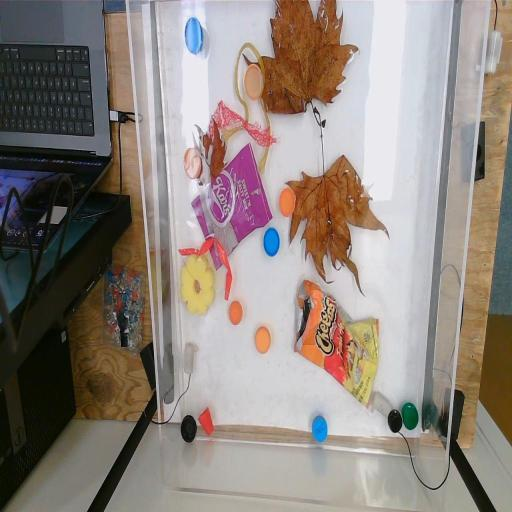Bottle Cap: (184, 14, 204, 56), (244, 62, 264, 100), (184, 146, 202, 180), (262, 226, 280, 258), (278, 186, 296, 217), (254, 324, 272, 355), (180, 414, 197, 444), (312, 414, 328, 444), (402, 402, 418, 430), (228, 300, 244, 326), (388, 408, 403, 434)
Cone Cap: (198, 408, 214, 436)
Leaf: (284, 107, 390, 298), (241, 0, 360, 126), (190, 120, 228, 186)
Netting: (207, 100, 279, 146)
Plastic Bag: (293, 278, 380, 410), (191, 142, 273, 270)
Plastic Strand: (222, 42, 272, 176), (178, 236, 232, 300)
Sponge: (180, 254, 216, 316)
